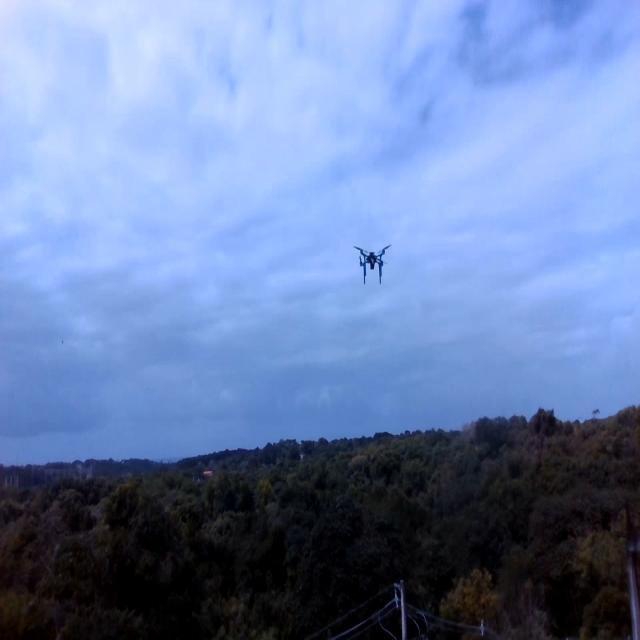-uav-: (354, 231, 392, 289)
